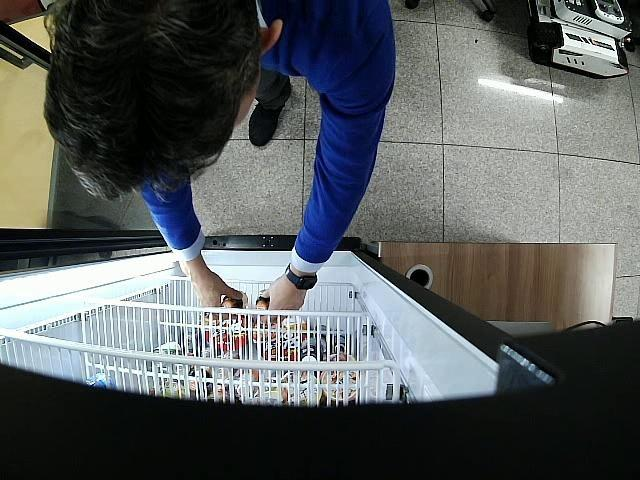17_vita500: (222, 291, 248, 308), (256, 297, 270, 310)
